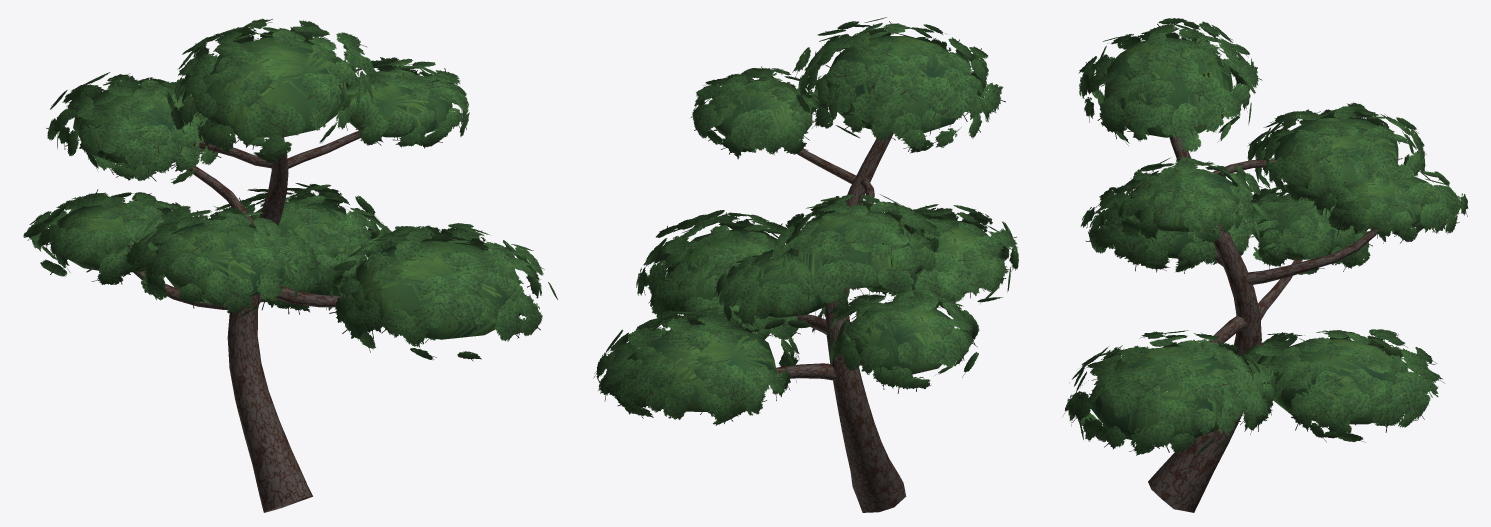
Rendered from Kuromatsu_A.fbx.
The picture shows the model from 3 angles, left to right: view 1: azimuth 30°, elevation 25°; view 2: azimuth 150°, elevation 25°; view 3: azimuth 270°, elevation 25°; orthographic projection. The views are drawn at different scales.
Visible parts, largest first — view 1: Kuromatsu_A; view 2: Kuromatsu_A; view 3: Kuromatsu_A.
Boxes of the visible parts, x1,y1,x2,y2 form: Kuromatsu_A: (23,18,557,512); Kuromatsu_A: (593,17,1018,512); Kuromatsu_A: (1063,18,1468,512).
Size of the model in its own units: 4.6 by 5.1 by 4.12.
2 materials, 2 textured.
